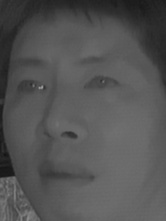eye: (79, 70, 121, 95), (11, 75, 50, 98)
mouth: (37, 156, 94, 194)
